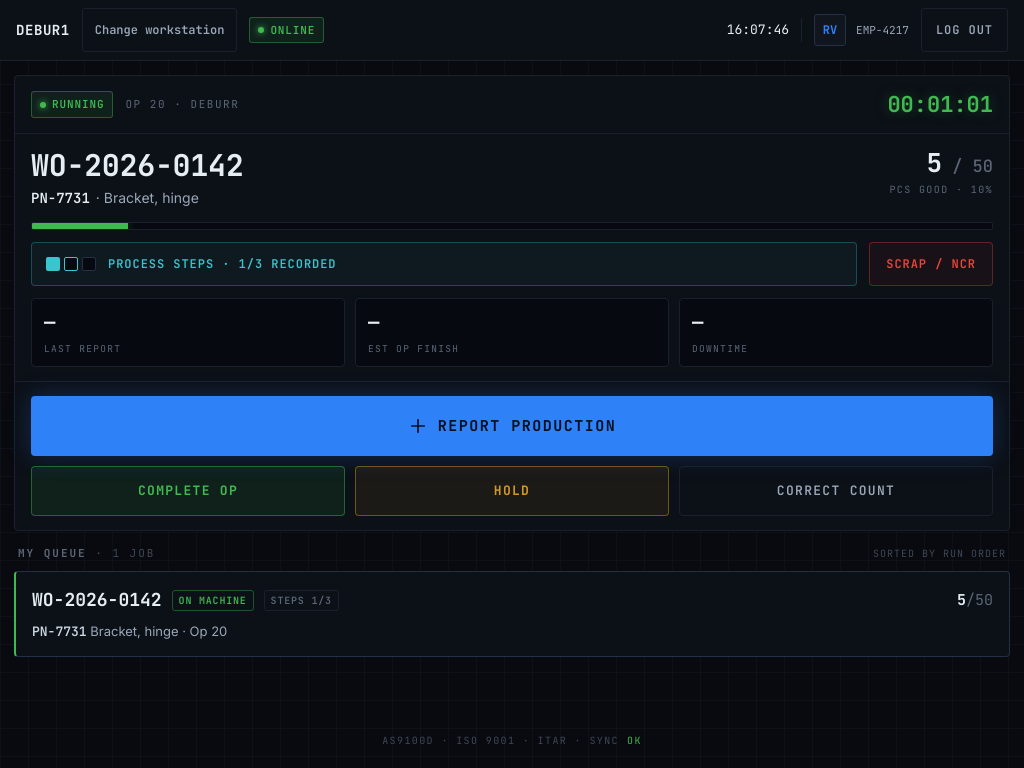
OperatorKiosk process steps › records a measurement non-optimistically (source:"kiosk", like clock-in) and refetches the steps view + queue
Click the button with test id "kiosk-active-steps" at (173, 264), box [31,242,857,286]
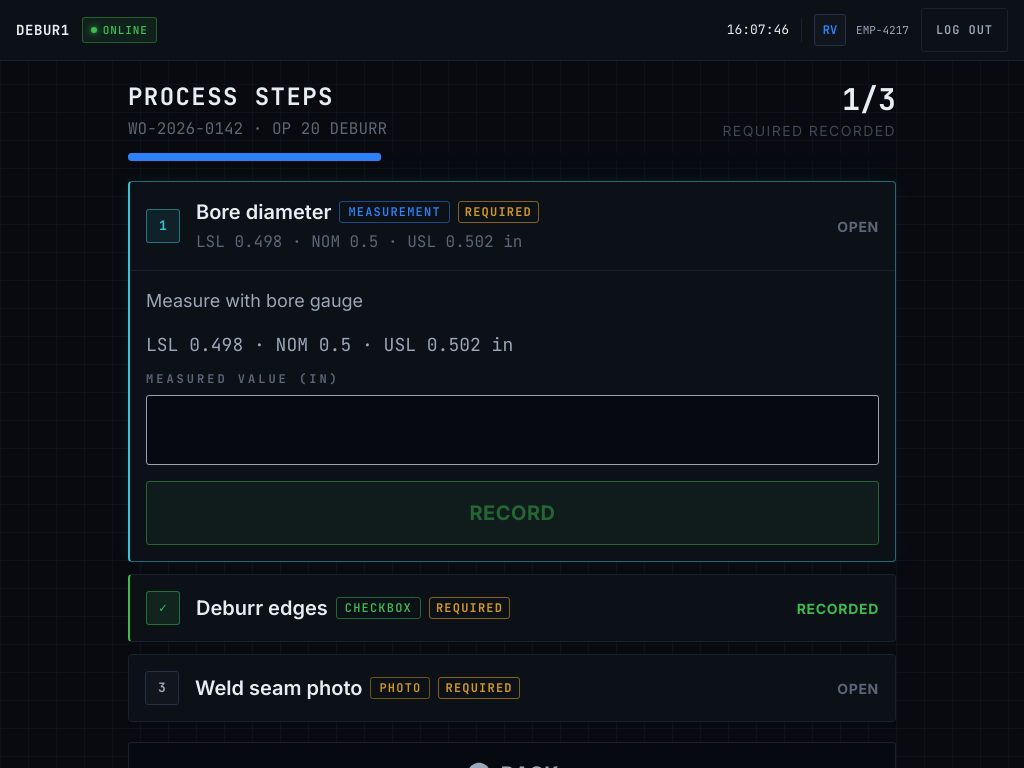
Expected: the text "1/3" is shown, [842,79,896,119]
Type "0.5001" into the field labelled "Measured value (in)" at (512, 430), box [146,395,879,465]
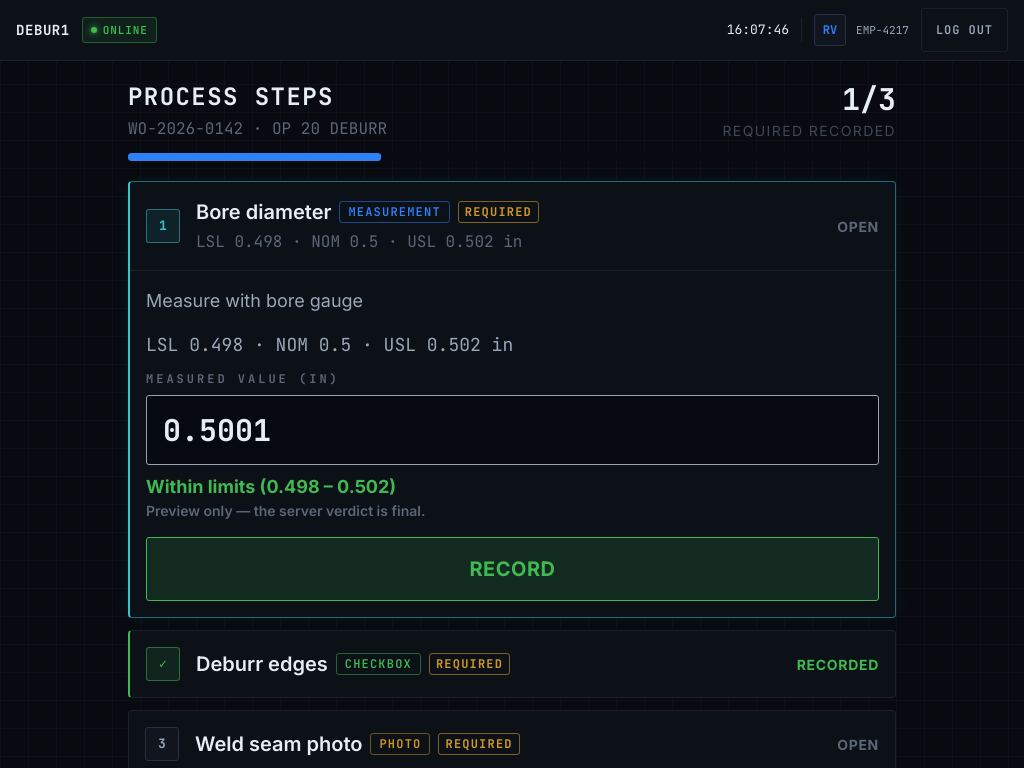
Click the button with test id "kiosk-record-101" at (512, 569), box [146,537,879,601]
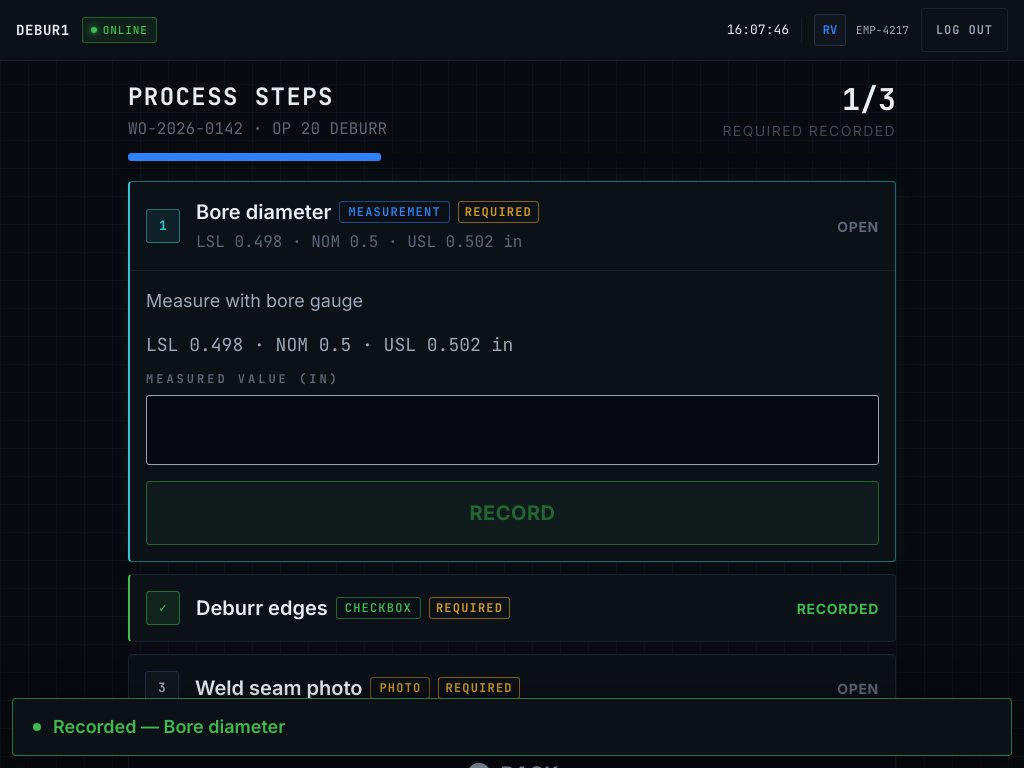
Expected: the text "Recorded — Bore diameter" is shown, [53,713,285,741]
